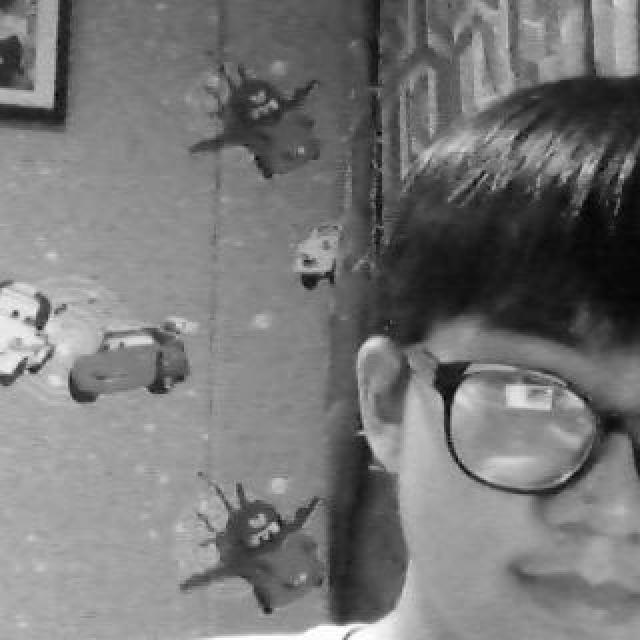Focused: (366, 74, 640, 640)
